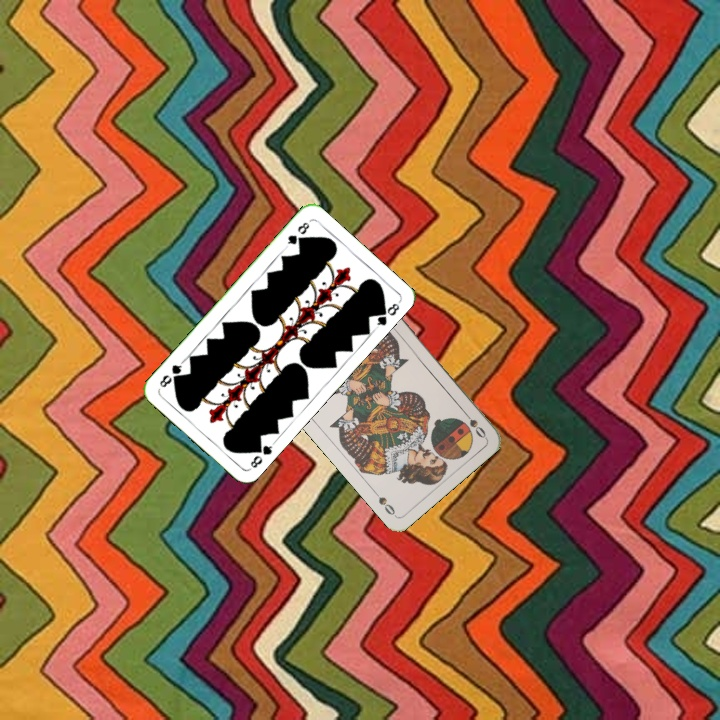G8: (246, 438, 277, 472), (283, 218, 312, 247)
SO: (458, 406, 488, 441)
